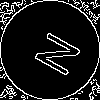N: (25, 25, 82, 79)
